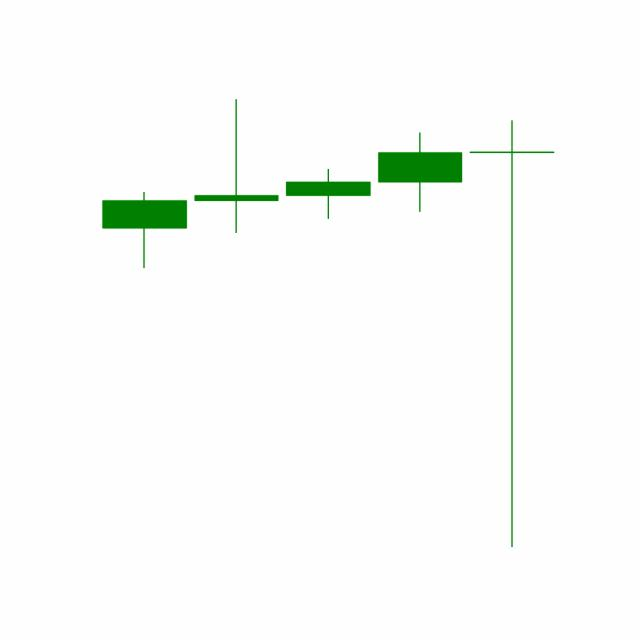Spinning Top: (464, 116, 558, 552)
